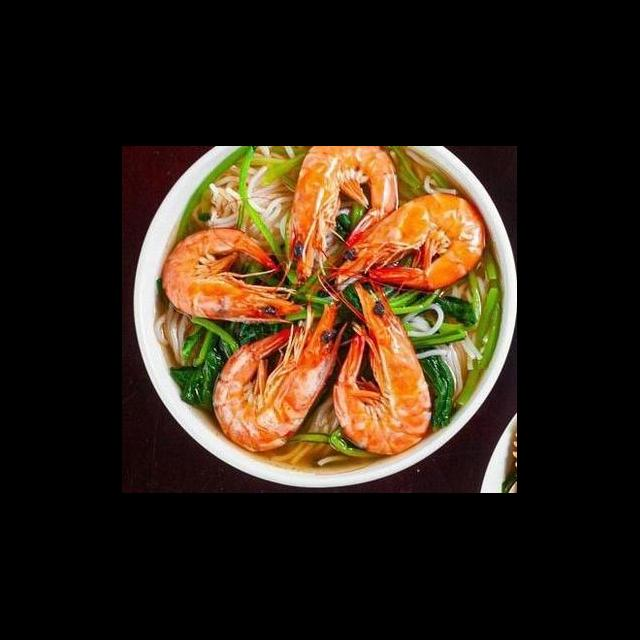bun: (398, 272, 492, 406), (190, 148, 304, 248), (266, 392, 342, 469), (150, 294, 212, 374), (386, 147, 459, 200)
tom: (210, 298, 352, 456), (329, 274, 436, 460), (324, 188, 490, 296), (284, 148, 404, 288), (158, 224, 308, 328)
